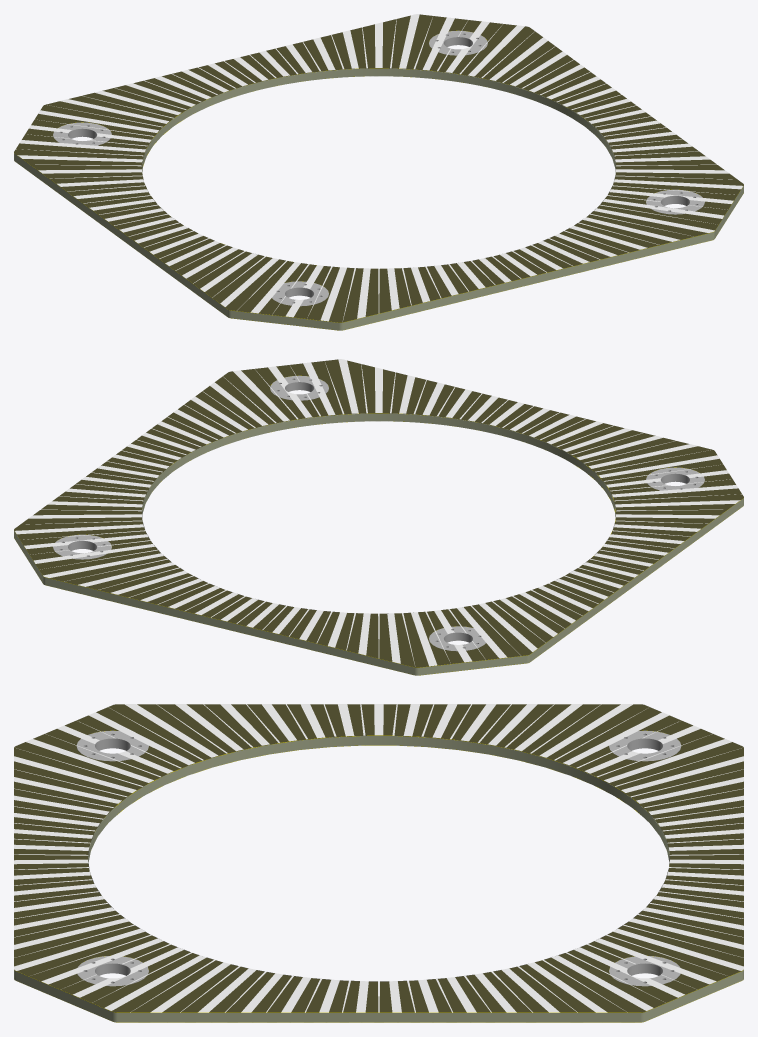
The model's file is board.glb.
The picture shows the model from 3 angles, top to bottom: view 1: azimuth 30°, elevation 25°; view 2: azimuth 150°, elevation 25°; view 3: azimuth 270°, elevation 25°; orthographic projection. The views are drawn at different scales.
Parts seen in each view (by area): view 1: board_soldermask, board_copper, board_silkscreen, board_PCB, board_pad; view 2: board_soldermask, board_copper, board_silkscreen, board_PCB, board_pad; view 3: board_soldermask, board_copper, board_silkscreen, board_PCB, board_pad.
Boxes of the visible parts, x1,y1,x2,y2 form: board_soldermask: (14,14,743,322); board_copper: (14,15,743,330); board_silkscreen: (16,14,742,321); board_PCB: (14,68,743,330); board_pad: (53,30,704,306); board_soldermask: (14,359,743,667); board_copper: (14,360,743,675); board_silkscreen: (15,359,741,666); board_PCB: (14,413,743,675); board_pad: (53,375,704,651); board_soldermask: (14,704,743,1012); board_copper: (14,705,743,1022); board_silkscreen: (14,704,743,1012); board_PCB: (14,736,743,1022); board_pad: (76,730,681,986).
Size of the model in its own units: 0.1067 by 0.00166 by 0.1067.
